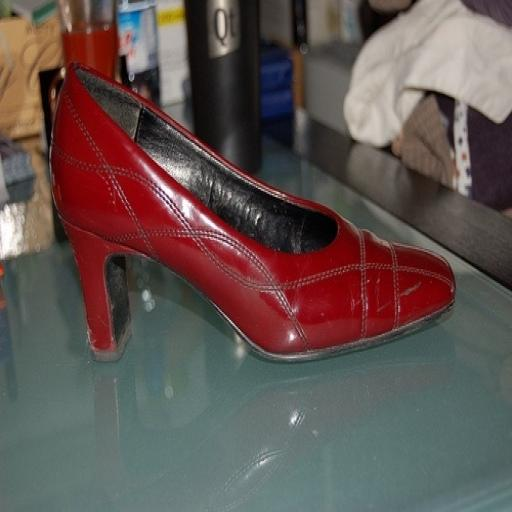heels: (50, 63, 455, 360)
